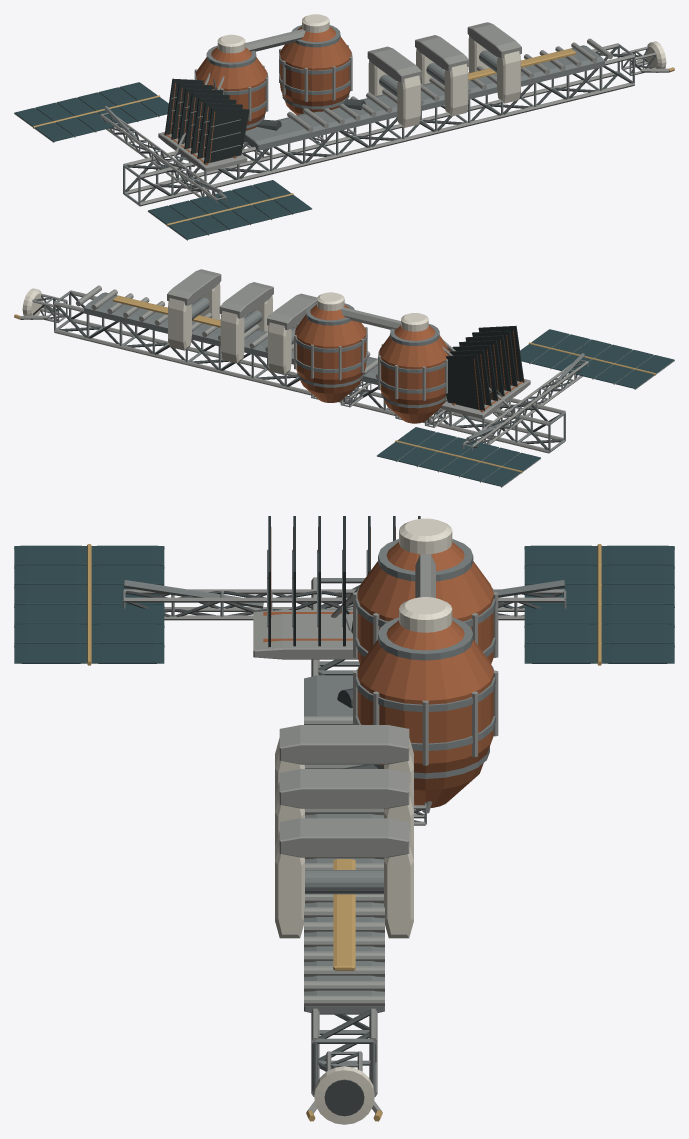
Rendered from foundry-beta-v001.glb.
The picture shows the model from 3 angles, top to bottom: view 1: azimuth 30°, elevation 25°; view 2: azimuth 150°, elevation 25°; view 3: azimuth 270°, elevation 25°; orthographic projection. The views are drawn at different scales.
Visible parts, largest first — view 1: foundry-beta-mill-transfer-line, foundry-beta-thermal-collector, foundry-beta-reduction-pot-b, foundry-beta-solar-starboard, foundry-beta-solar-port, foundry-beta-reduction-pot-a, foundry-beta-rolling-stand-3, foundry-beta-rolling-stand-1, foundry-beta-rolling-stand-2, foundry-beta-photovoltaic-yoke, foundry-beta-sealed-feed-conveyor, foundry-beta-billet-dispatch; view 2: foundry-beta-mill-transfer-line, foundry-beta-reduction-pot-b, foundry-beta-reduction-pot-a, foundry-beta-thermal-collector, foundry-beta-solar-port, foundry-beta-solar-starboard, foundry-beta-rolling-stand-3, foundry-beta-rolling-stand-2, foundry-beta-photovoltaic-yoke, foundry-beta-rolling-stand-1, foundry-beta-billet-dispatch, foundry-beta-sealed-feed-conveyor (+1 smaller); view 3: foundry-beta-reduction-pot-b, foundry-beta-mill-transfer-line, foundry-beta-solar-port, foundry-beta-solar-starboard, foundry-beta-rolling-stand-3, foundry-beta-reduction-pot-a, foundry-beta-photovoltaic-yoke, foundry-beta-thermal-collector, foundry-beta-rolling-stand-2, foundry-beta-rolling-stand-1, foundry-beta-billet-dispatch, foundry-beta-sealed-feed-conveyor.
Part boxes in pixels (x1,y1,x2,y2): foundry-beta-mill-transfer-line: (123,38,634,206); foundry-beta-thermal-collector: (158,78,249,171); foundry-beta-reduction-pot-b: (279,14,352,114); foundry-beta-solar-starboard: (147,180,311,240); foundry-beta-solar-port: (14,82,168,142); foundry-beta-reduction-pot-a: (194,34,268,130); foundry-beta-rolling-stand-3: (467,22,521,103); foundry-beta-rolling-stand-1: (367,46,421,127); foundry-beta-rolling-stand-2: (415,35,469,116); foundry-beta-photovoltaic-yoke: (100,106,226,203); foundry-beta-sealed-feed-conveyor: (174,29,365,166); foundry-beta-billet-dispatch: (621,41,674,75); foundry-beta-mill-transfer-line: (54,285,565,453); foundry-beta-reduction-pot-b: (294,292,367,402); foundry-beta-reduction-pot-a: (378,313,450,423); foundry-beta-thermal-collector: (441,325,530,418); foundry-beta-solar-port: (377,427,541,487); foundry-beta-solar-starboard: (520,329,674,389); foundry-beta-rolling-stand-3: (167,269,221,350); foundry-beta-rolling-stand-2: (219,282,273,363); foundry-beta-photovoltaic-yoke: (462,353,588,450); foundry-beta-rolling-stand-1: (267,293,316,374); foundry-beta-billet-dispatch: (14,288,67,322); foundry-beta-sealed-feed-conveyor: (341,307,510,417); foundry-beta-reduction-pot-b: (353,597,498,807); foundry-beta-mill-transfer-line: (304,577,384,1096); foundry-beta-solar-port: (524,544,674,665); foundry-beta-solar-starboard: (14,544,164,665); foundry-beta-rolling-stand-3: (275,818,413,938); foundry-beta-reduction-pot-a: (353,518,498,663); foundry-beta-photovoltaic-yoke: (122,580,566,620); foundry-beta-thermal-collector: (253,516,420,659); foundry-beta-rolling-stand-2: (275,769,413,846); foundry-beta-rolling-stand-1: (275,725,413,797); foundry-beta-billet-dispatch: (306,1051,382,1124); foundry-beta-sealed-feed-conveyor: (331,554,435,768).
Bounding box in the file's own units: 645 × 127 × 342.
1 material, 1 textured.
